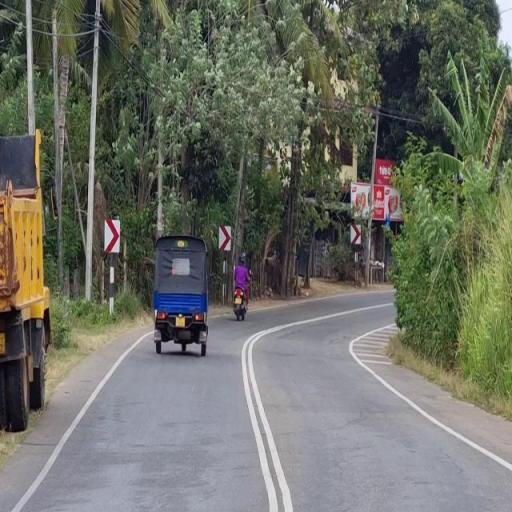double_white_line: (348, 326, 510, 474), (240, 325, 290, 511)
